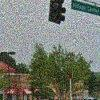traffic lights: (47, 0, 66, 25)
